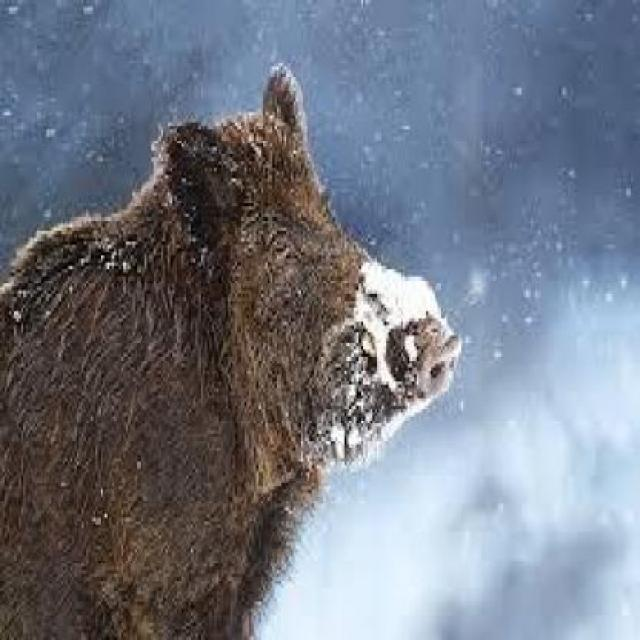Wild Boar: (0, 61, 471, 640)
